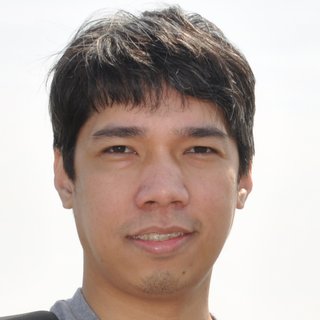eye: (95, 140, 140, 161), (178, 141, 223, 160)
